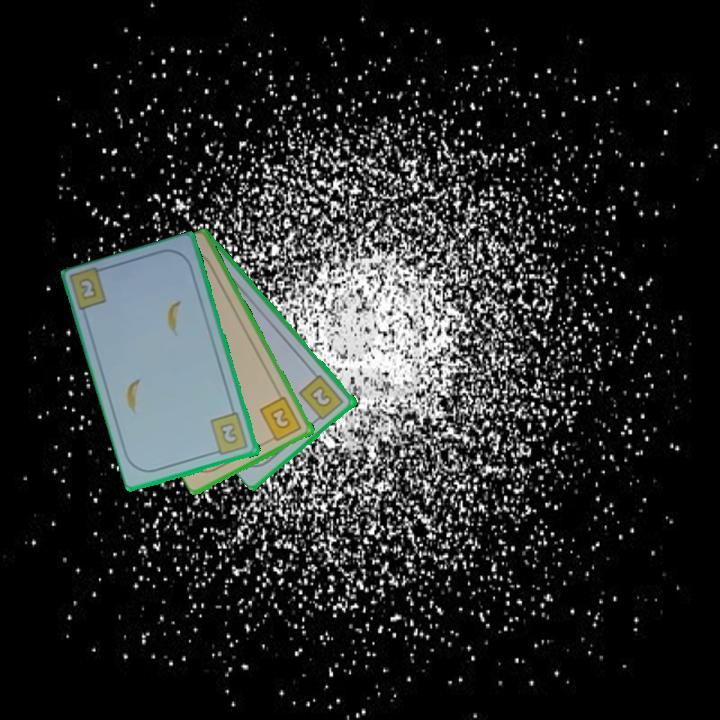2b: (296, 371, 347, 425), (256, 393, 305, 444), (207, 409, 251, 458), (75, 274, 100, 303)
